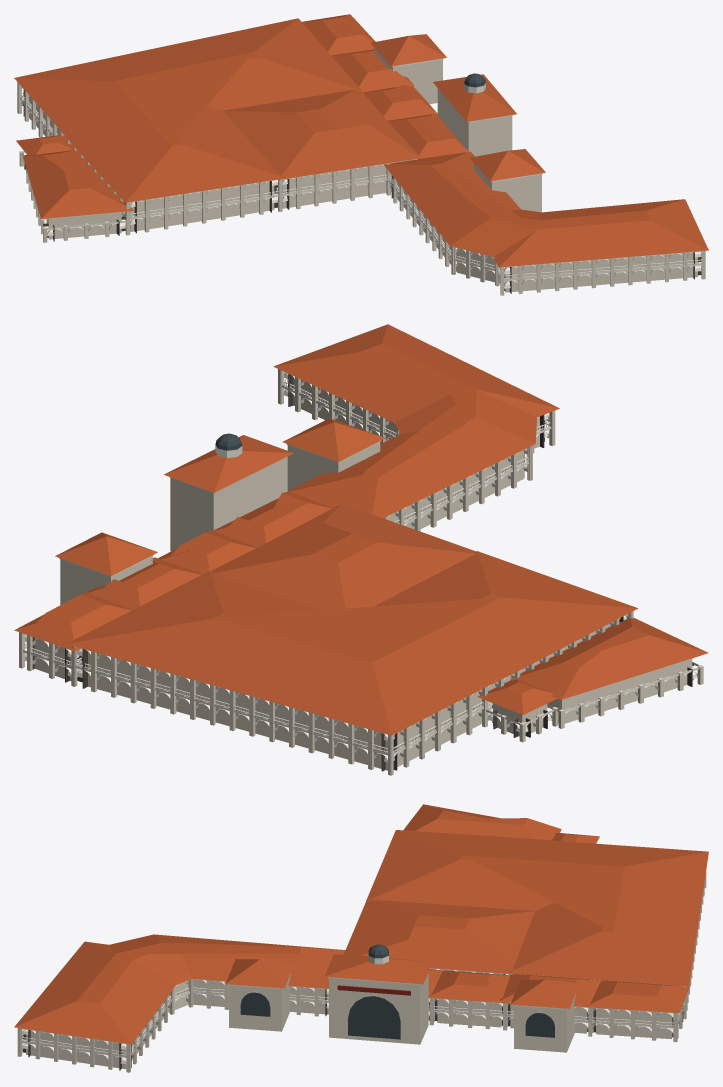
The model's file is gaisano_country_mall.glb.
The picture shows the model from 3 angles, top to bottom: view 1: azimuth 30°, elevation 25°; view 2: azimuth 150°, elevation 25°; view 3: azimuth 270°, elevation 25°; orthographic projection. The views are drawn at different scales.
Parts seen in each view (by area): view 1: GaisanoCountryMall; view 2: GaisanoCountryMall; view 3: GaisanoCountryMall.
Part boxes in pixels (left/top/right/bottom): GaisanoCountryMall: left=14, top=14, right=708, bottom=295; GaisanoCountryMall: left=14, top=324, right=708, bottom=775; GaisanoCountryMall: left=14, top=804, right=708, bottom=1072.
Bounding box in the file's own units: 162 × 26.5 × 194.
